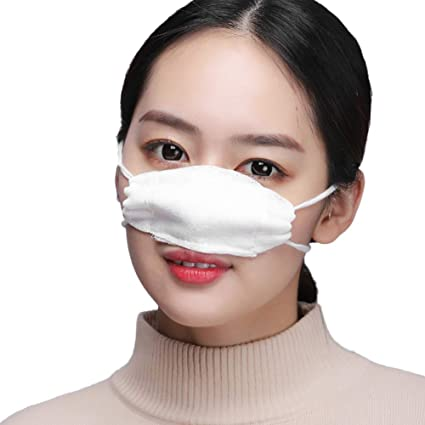with_incorrect_mask: (122, 37, 329, 337)
